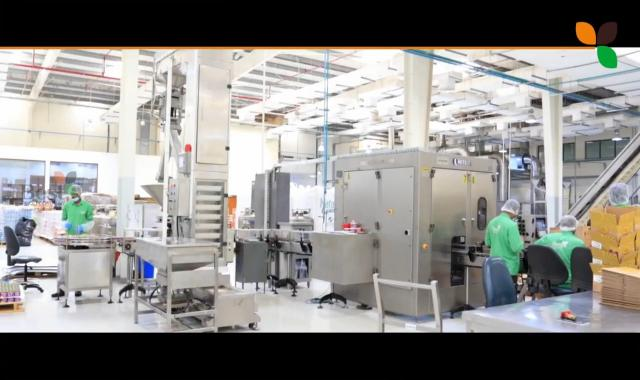hairnet: (610, 182, 630, 209), (502, 197, 520, 217), (558, 214, 576, 233), (67, 184, 84, 201)
